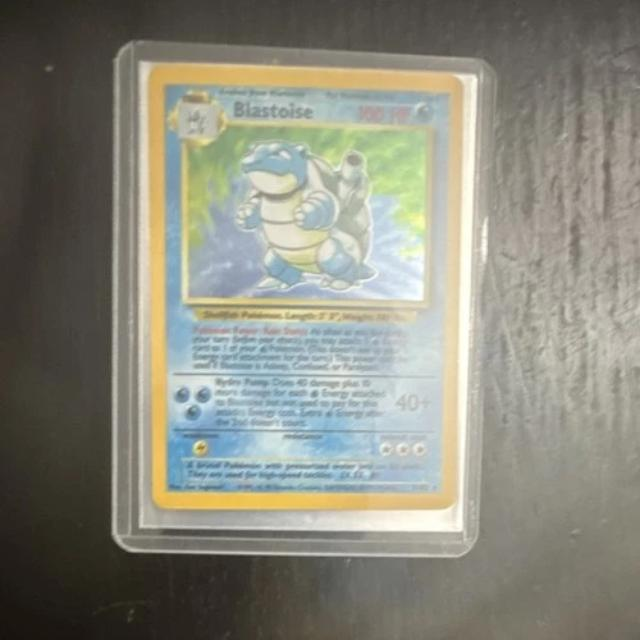Card: (142, 62, 470, 512)
Name: (227, 96, 320, 120)
